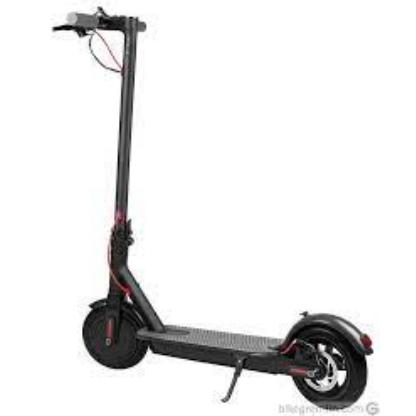bike: (81, 7, 379, 412)
